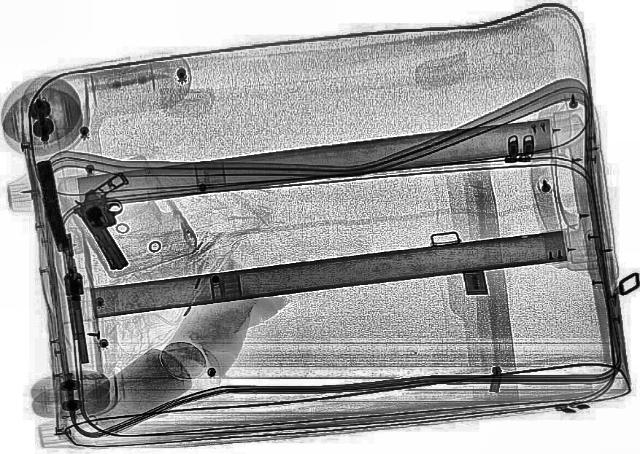Gun: (63, 172, 161, 274), (22, 155, 82, 261), (55, 234, 93, 364)
